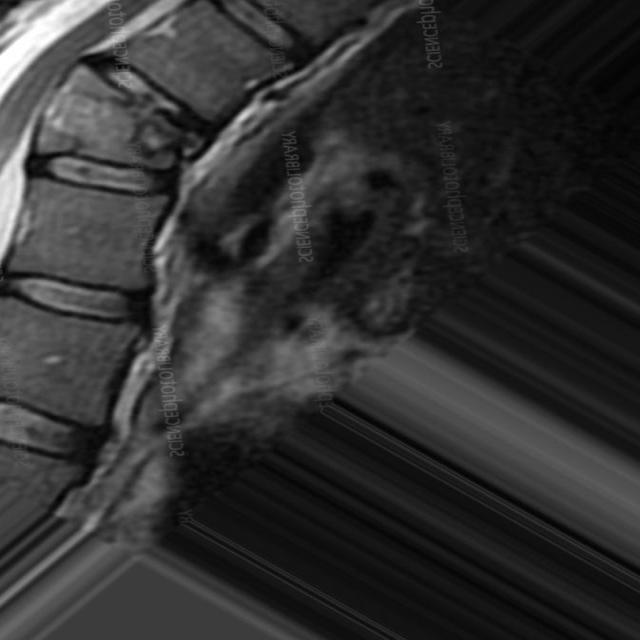Comminuted: (32, 46, 210, 195)
